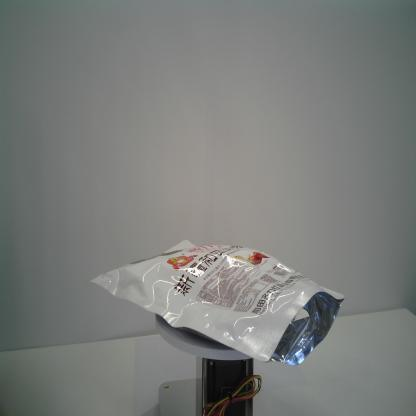Dried Food: (86, 236, 351, 369)
